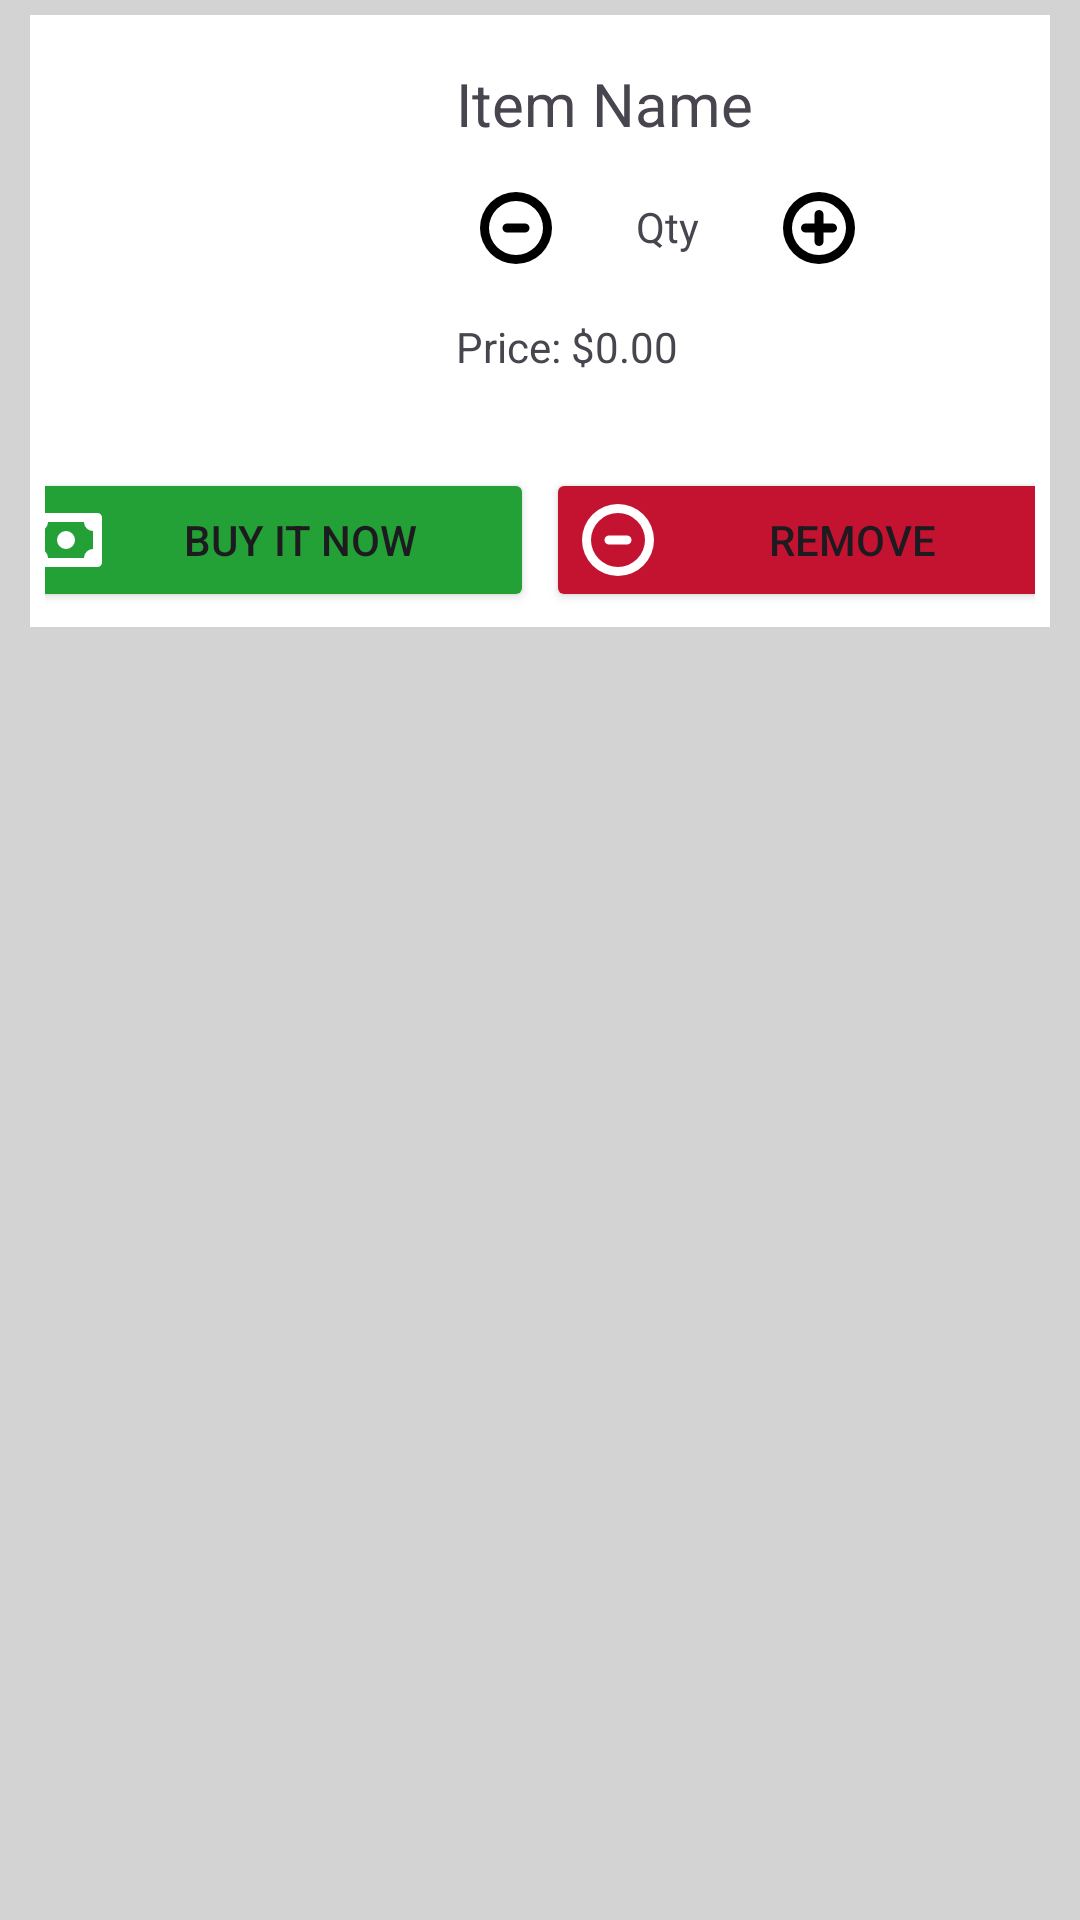

Point at icon controls on the screen. Image size 1080w x 1920h, points as (x=x, y=y).
negative: (x=516, y=228)
positive: (x=819, y=228)
